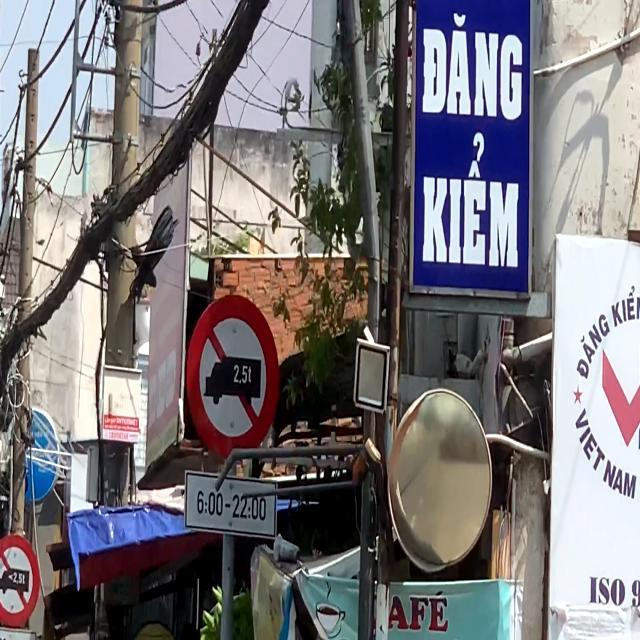Cam xe tai tren 2_5: (184, 287, 280, 464), (0, 528, 41, 628)
